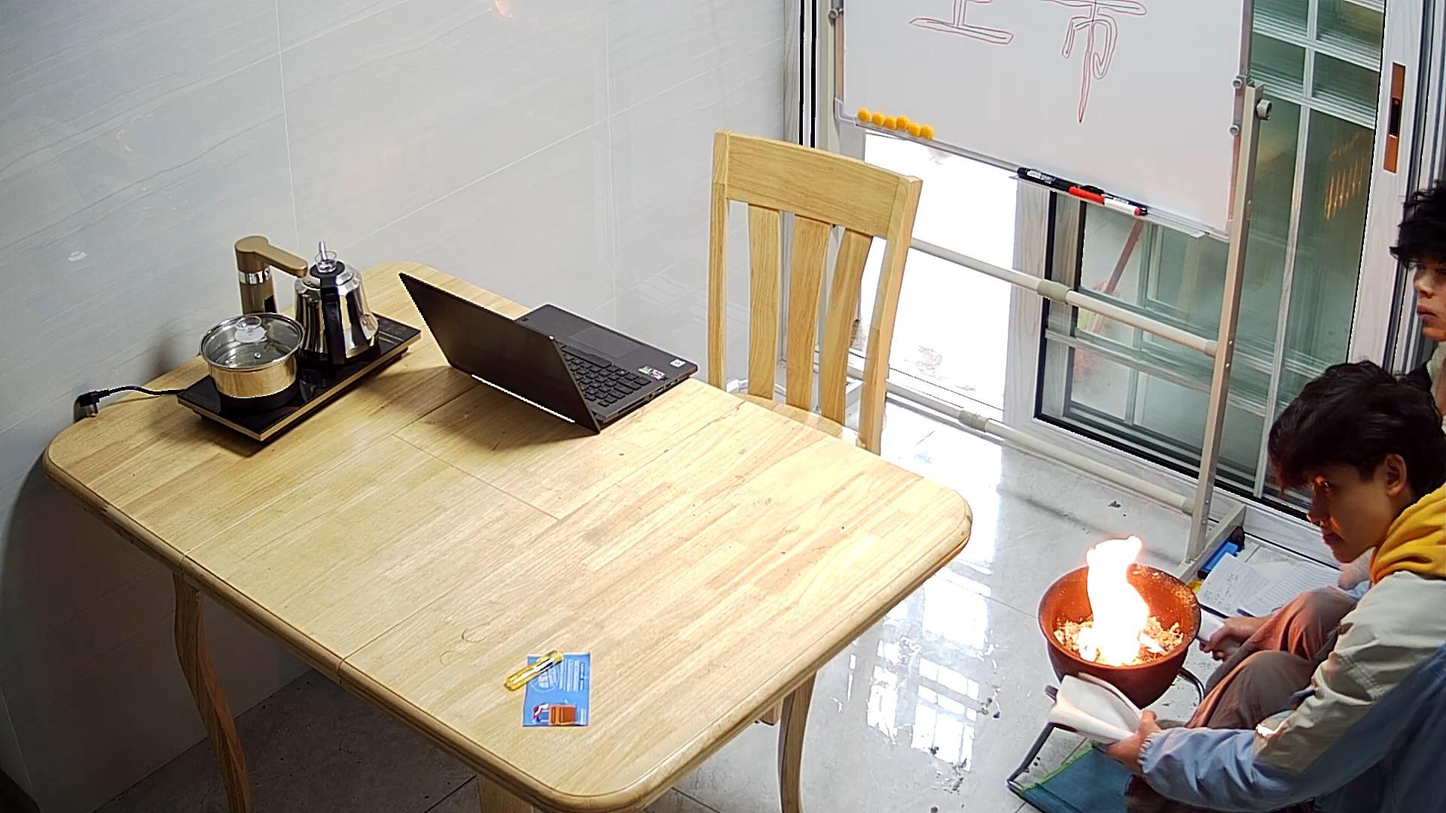fire: (1078, 536, 1149, 666)
